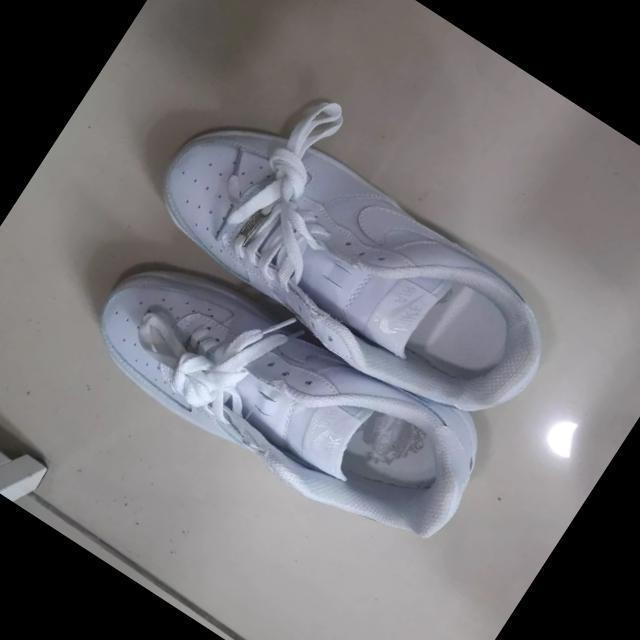nike fake air force: (61, 208, 522, 588), (128, 79, 582, 462)
